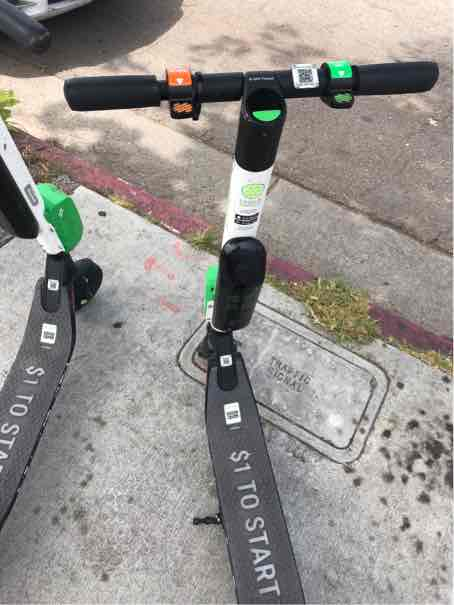scooter: (75, 42, 454, 605), (3, 73, 106, 541)
